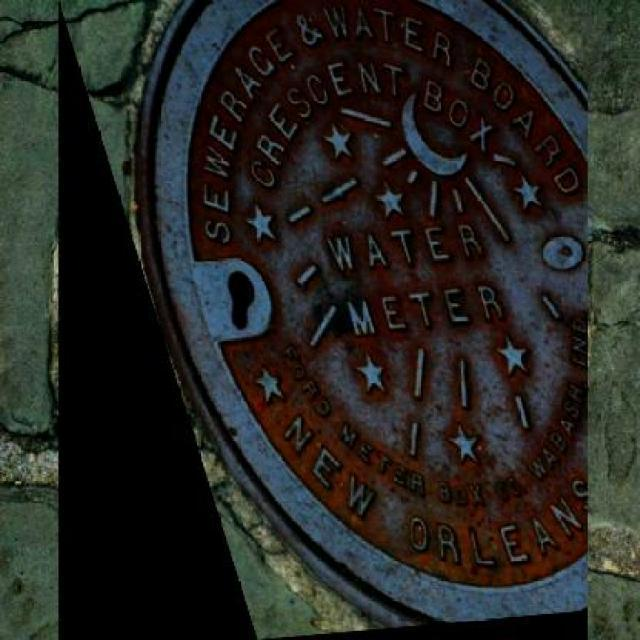Manhole: (57, 0, 588, 640)
